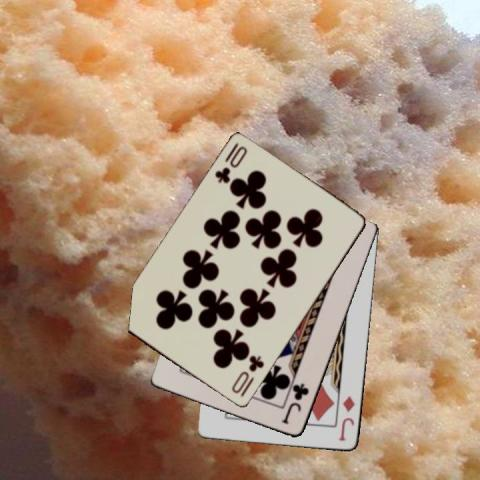10c: (228, 353, 266, 399), (211, 140, 249, 185)
Jc: (280, 381, 311, 426)
Jd: (336, 393, 357, 443)
